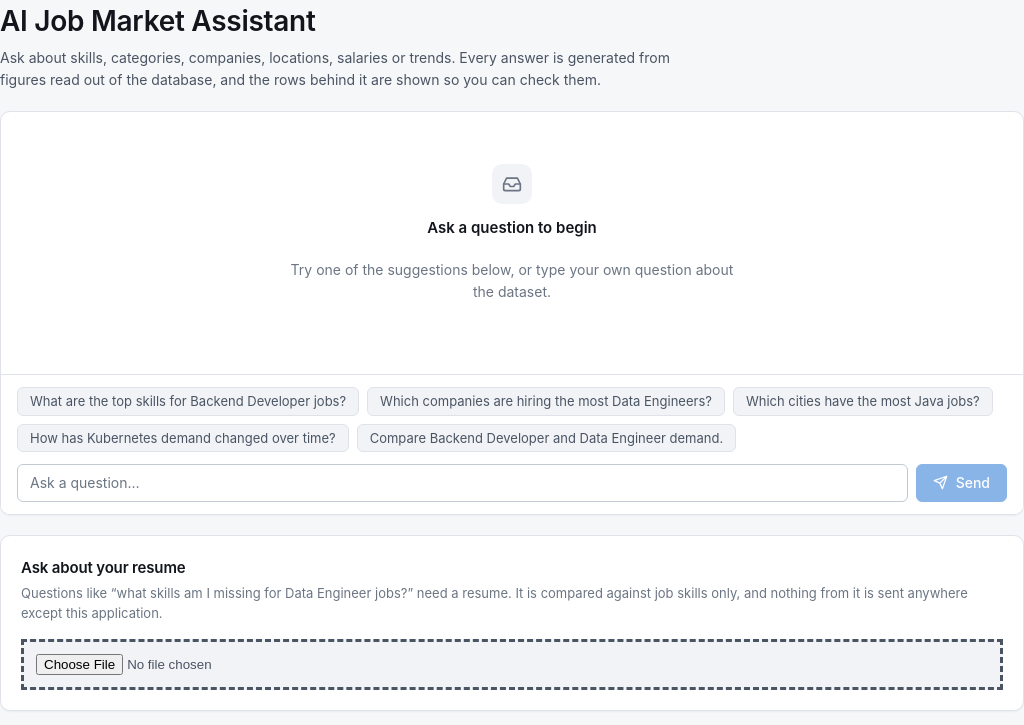
it: AiAssistant › renders a table of rows when the visualization is TABLE
Type "show me java jobs" into the field named "Your question" at (462, 483), box 17,464 -> 908,502
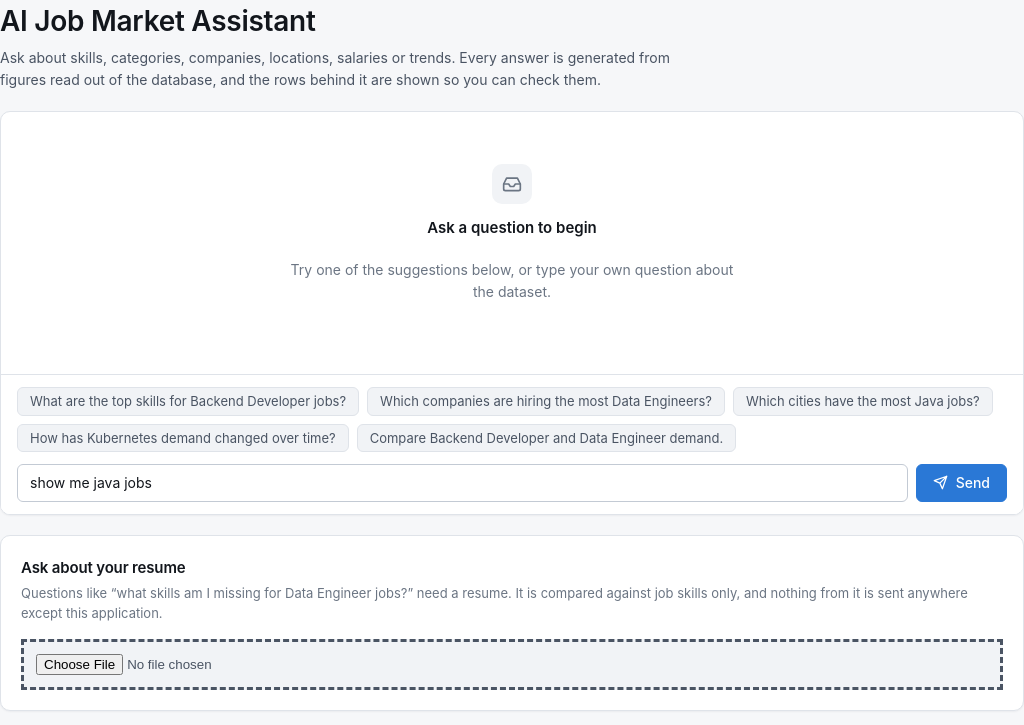
Click the button "Send" at (961, 483), box 916,464 -> 1007,502
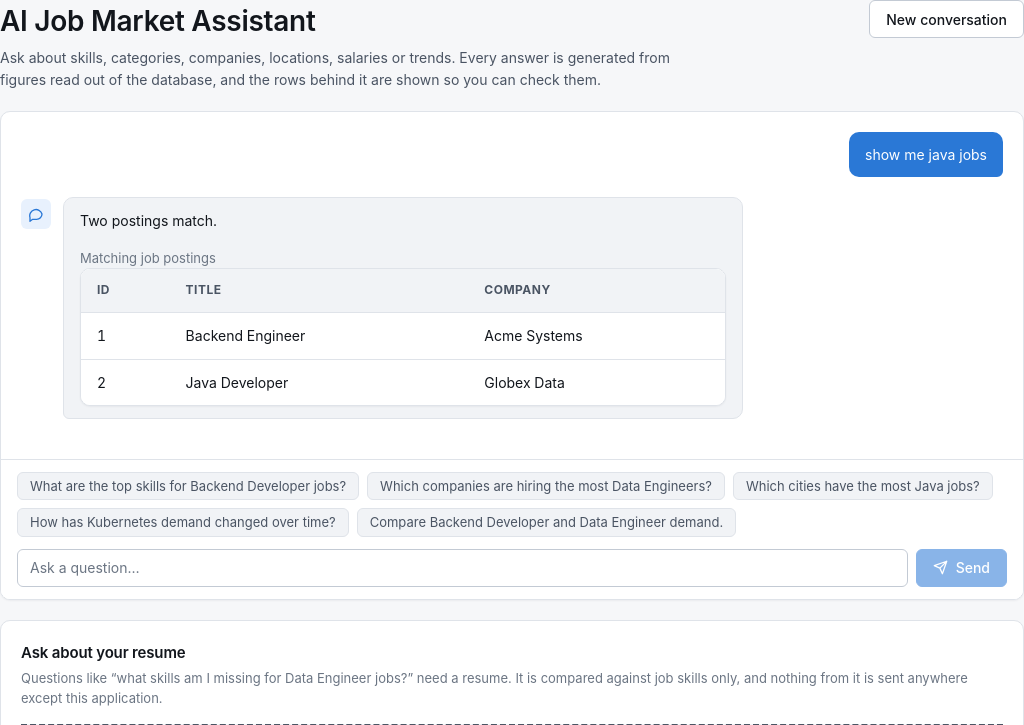
Expected: the text "Backend Engineer" is shown, 170,312 -> 468,359
Expected: the text "Acme Systems" is shown, 468,312 -> 725,359
